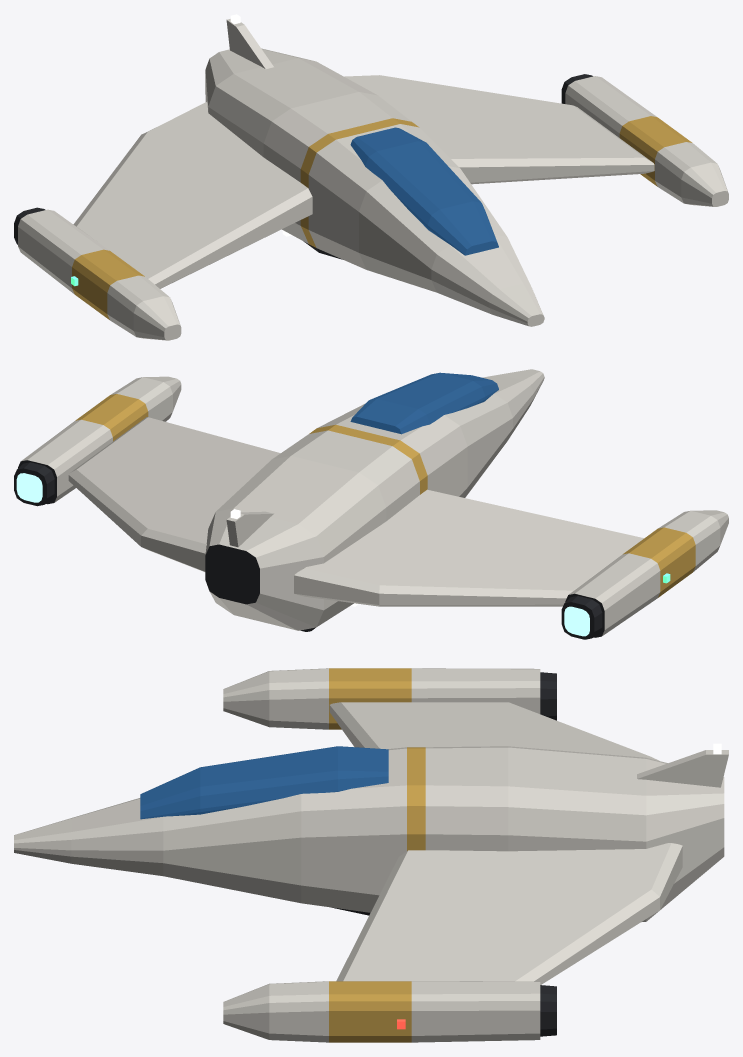
Rendered from imperial-eagle.glb.
3 views of the same model, one above another, from view 1: azimuth 30°, elevation 25°; view 2: azimuth 150°, elevation 25°; view 3: azimuth 270°, elevation 25° (orthographic). The views are drawn at different scales.
Parts seen in each view (by area): view 1: imperial-eagle; view 2: imperial-eagle; view 3: imperial-eagle.
Part boxes in pixels (x1=…): imperial-eagle: x1=14, y1=14, x2=728, y2=340; imperial-eagle: x1=14, y1=369, x2=728, y2=639; imperial-eagle: x1=14, y1=668, x2=728, y2=1042.
Bounding box in the file's own units: 35.04 × 8.31 × 31.1.
